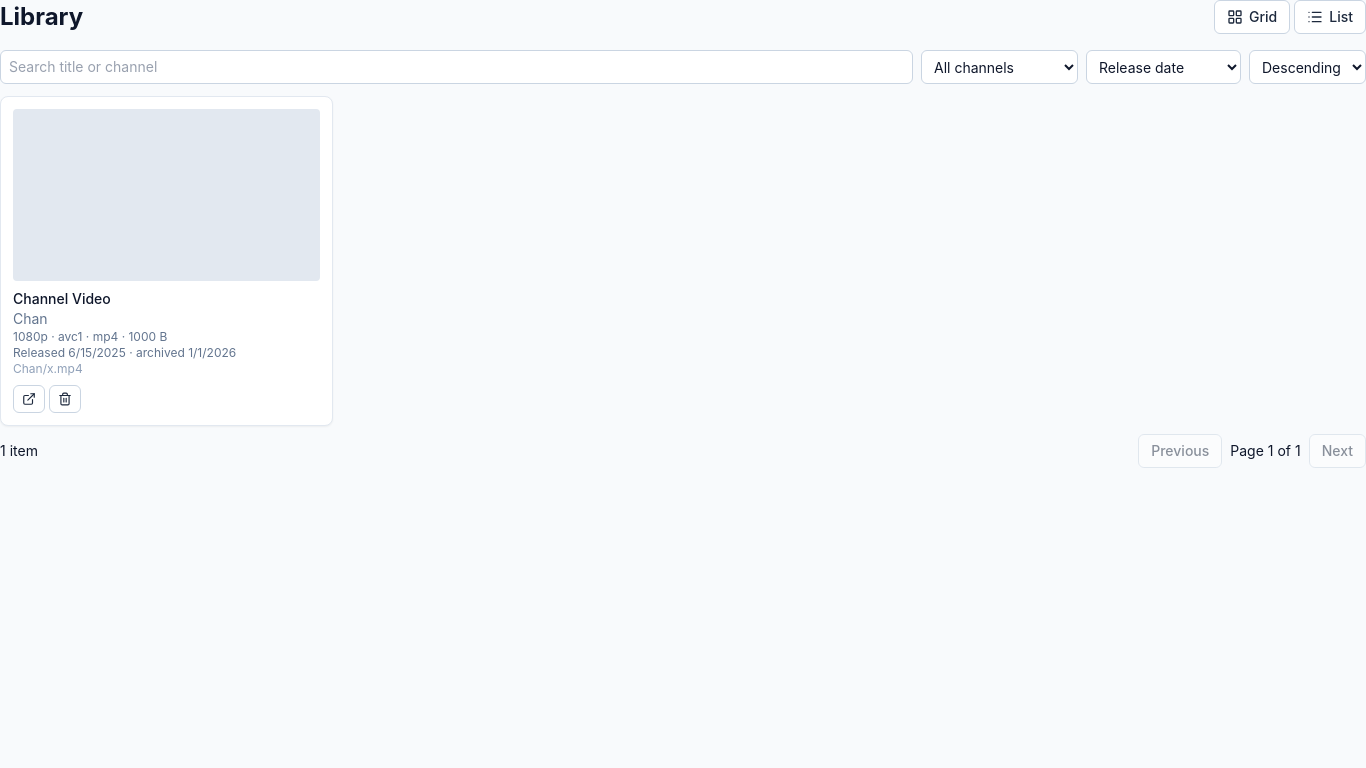
LibraryPage delete › explains that channel videos will not be downloaded again
The width and height of the screenshot is (1366, 768).
Click the button named "Delete Channel Video" at (65, 399), box [49,385,81,413]
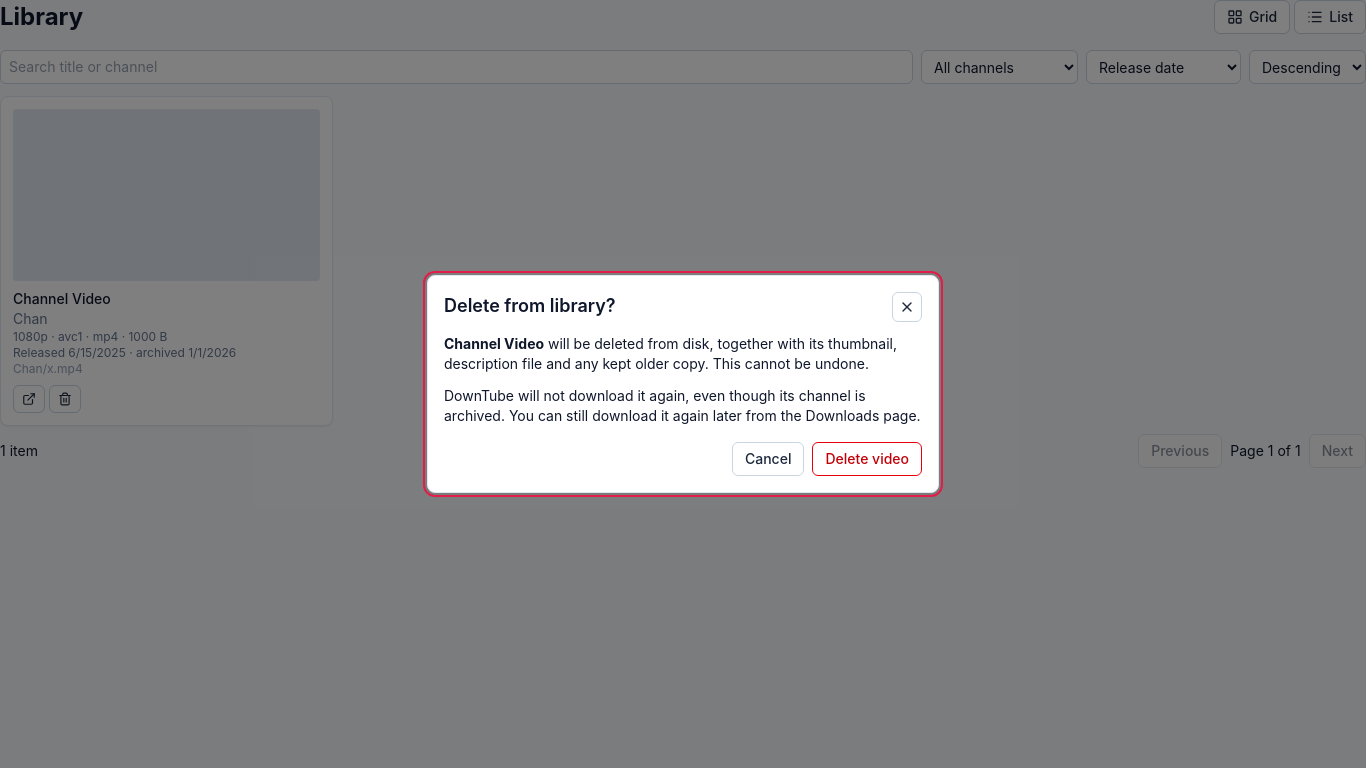
Result: the dialog "Delete from library" shows "even though its channel is archived" at [444,387,866,424]
